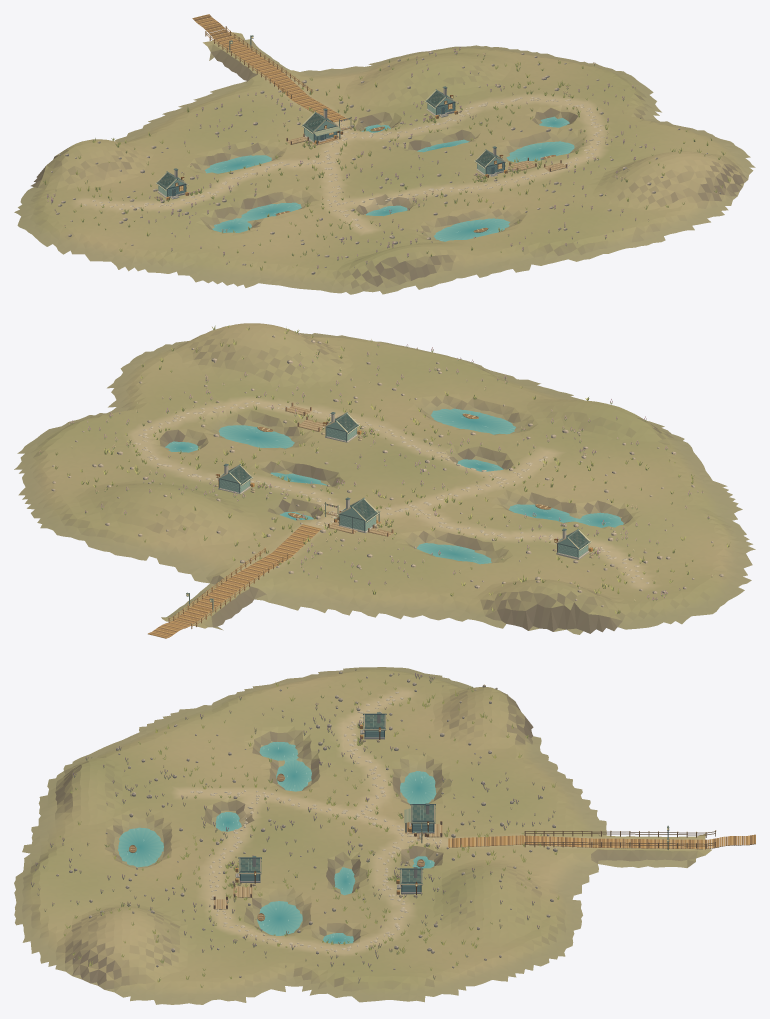
Rendered from extension_reef.glb.
3 renders of one model, top to bottom at view 1: azimuth 30°, elevation 25°; view 2: azimuth 150°, elevation 25°; view 3: azimuth 270°, elevation 25°, orthographic. The views are drawn at different scales.
Visible parts, largest first — view 1: Erdrelief · Morgenriff · 2,-13, Erdrelief · Morgenriff · -1,-13, Erdrelief · Morgenriff · 1,-14, Erdrelief · Morgenriff · 2,-15, Erdrelief · Morgenriff · 3,-13, Erdrelief · Morgenriff · -1,-14, Erdrelief · Morgenriff · 3,-14, Erdrelief · Morgenriff · 0,-14, Erdrelief · Morgenriff · 0,-13, Erdrelief · Morgenriff · 0,-15, Erdrelief · Morgenriff · -1,-15, Erdrelief · Morgenriff · 3,-15 (+26 smaller); view 2: Erdrelief · Morgenriff · 3,-15, Erdrelief · Morgenriff · 0,-15, Erdrelief · Morgenriff · 2,-12, Erdrelief · Morgenriff · 2,-15, Erdrelief · Morgenriff · 3,-14, Erdrelief · Morgenriff · 1,-14, Erdrelief · Morgenriff · 0,-14, Erdrelief · Morgenriff · 3,-13, Erdrelief · Morgenriff · -1,-14, Erdrelief · Morgenriff · 0,-13, Erdrelief · Morgenriff · 1,-15, Erdrelief · Morgenriff · 1,-12 (+29 smaller); view 3: Erdrelief · Morgenriff · 3,-13, Erdrelief · Morgenriff · 3,-15, Erdrelief · Morgenriff · 1,-14, Erdrelief · Morgenriff · -1,-14, Erdrelief · Morgenriff · 0,-15, Erdrelief · Morgenriff · -1,-13, Erdrelief · Morgenriff · 2,-15, Erdrelief · Morgenriff · 1,-15, Erdrelief · Morgenriff · 0,-13, Gezeitentümpel, Erdrelief · Morgenriff · 3,-14, Erdrelief · Morgenriff · 1,-12 (+27 smaller).
Part boxes in pixels (<box>): Erdrelief · Morgenriff · 2,-13: <box>348,58,511,142</box>; Erdrelief · Morgenriff · -1,-13: <box>39,142,203,217</box>; Erdrelief · Morgenriff · 1,-14: <box>305,142,468,214</box>; Erdrelief · Morgenriff · 2,-15: <box>466,160,629,228</box>; Erdrelief · Morgenriff · 3,-13: <box>453,56,614,118</box>; Erdrelief · Morgenriff · -1,-14: <box>100,192,263,266</box>; Erdrelief · Morgenriff · 3,-14: <box>512,91,672,160</box>; Erdrelief · Morgenriff · 0,-14: <box>201,167,361,236</box>; Erdrelief · Morgenriff · 0,-13: <box>142,123,304,191</box>; Erdrelief · Morgenriff · 0,-15: <box>260,213,422,283</box>; Erdrelief · Morgenriff · -1,-15: <box>159,236,322,289</box>; Erdrelief · Morgenriff · 3,-15: <box>571,135,731,200</box>; Erdrelief · Morgenriff · 3,-15: <box>159,323,338,408</box>; Erdrelief · Morgenriff · 0,-15: <box>508,406,684,493</box>; Erdrelief · Morgenriff · 2,-12: <box>96,488,257,582</box>; Erdrelief · Morgenriff · 2,-15: <box>273,357,453,435</box>; Erdrelief · Morgenriff · 3,-14: <box>93,381,276,457</box>; Erdrelief · Morgenriff · 1,-14: <box>324,436,498,513</box>; Erdrelief · Morgenriff · 0,-14: <box>438,468,621,541</box>; Erdrelief · Morgenriff · 3,-13: <box>26,427,207,491</box>; Erdrelief · Morgenriff · -1,-14: <box>552,493,734,569</box>; Erdrelief · Morgenriff · 0,-13: <box>372,514,552,590</box>; Erdrelief · Morgenriff · 1,-15: <box>388,388,572,469</box>; Erdrelief · Morgenriff · 1,-12: <box>197,534,373,612</box>; Erdrelief · Morgenriff · 3,-13: <box>359,897,492,979</box>; Erdrelief · Morgenriff · 3,-15: <box>96,907,229,971</box>; Erdrelief · Morgenriff · 1,-14: <box>227,800,360,866</box>; Erdrelief · Morgenriff · -1,-14: <box>227,689,361,754</box>; Erdrelief · Morgenriff · 0,-15: <box>96,745,229,809</box>; Erdrelief · Morgenriff · -1,-13: <box>359,687,492,749</box>; Erdrelief · Morgenriff · 2,-15: <box>96,856,229,915</box>; Erdrelief · Morgenriff · 1,-15: <box>96,790,229,867</box>; Erdrelief · Morgenriff · 0,-13: <box>359,743,492,804</box>; Gezeitentümpel: <box>118,742,436,943</box>; Erdrelief · Morgenriff · 3,-14: <box>227,911,361,976</box>; Erdrelief · Morgenriff · 1,-12: <box>490,799,623,867</box>.
Bounding box in the file's own units: 109 × 6.13 × 101.
